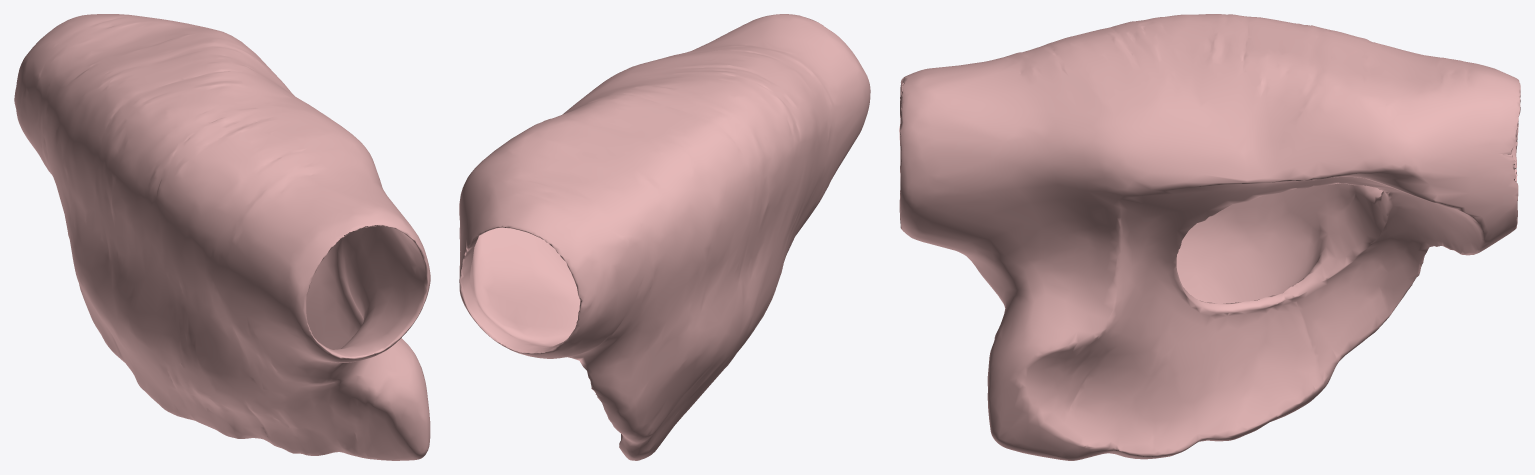
Rendered from atrium-wall-right.glb.
The picture shows the model from 3 angles, left to right: view 1: azimuth 30°, elevation 25°; view 2: azimuth 150°, elevation 25°; view 3: azimuth 270°, elevation 25°; orthographic projection. The views are drawn at different scales.
Parts seen in each view (by area): view 1: structure; view 2: structure; view 3: structure.
Boxes of the visible parts, x1=… form: structure: x1=14, y1=14, x2=430, y2=460; structure: x1=459, y1=14, x2=870, y2=460; structure: x1=899, y1=14, x2=1520, y2=460.
Size of the model in its own units: 43.08 by 66.29 by 96.69.
